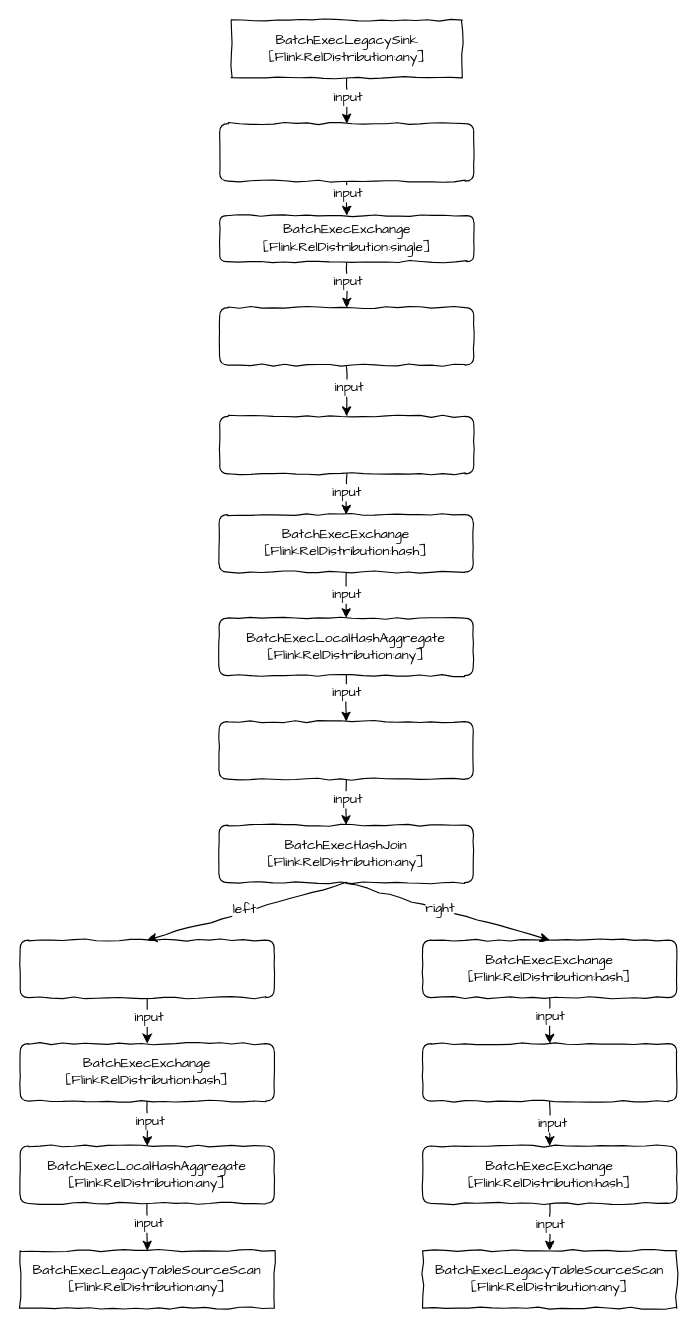
The diagram is 697 pixels wide and 1328 high, and some of its shapes have lost their labels. Here are the shapes that lost their labels. From the top down, the box of each, then its label:
(218, 122, 474, 181): BatchExecSortLimit [FlinkRelDistribution:single]
(218, 306, 474, 365): BatchExecSortLimit [FlinkRelDistribution:any]
(218, 415, 474, 474): BatchExecHashAggregate [FlinkRelDistribution:any]
(218, 720, 473, 779): BatchExecCalc [ FlinkRelDistribution:any ]
(19, 939, 274, 998): BatchExecHashAggregate [ FlinkRelDistribution:hash ]
(421, 1042, 677, 1101): BatchExecHashAggregate [ FlinkRelDistribution:any ]
